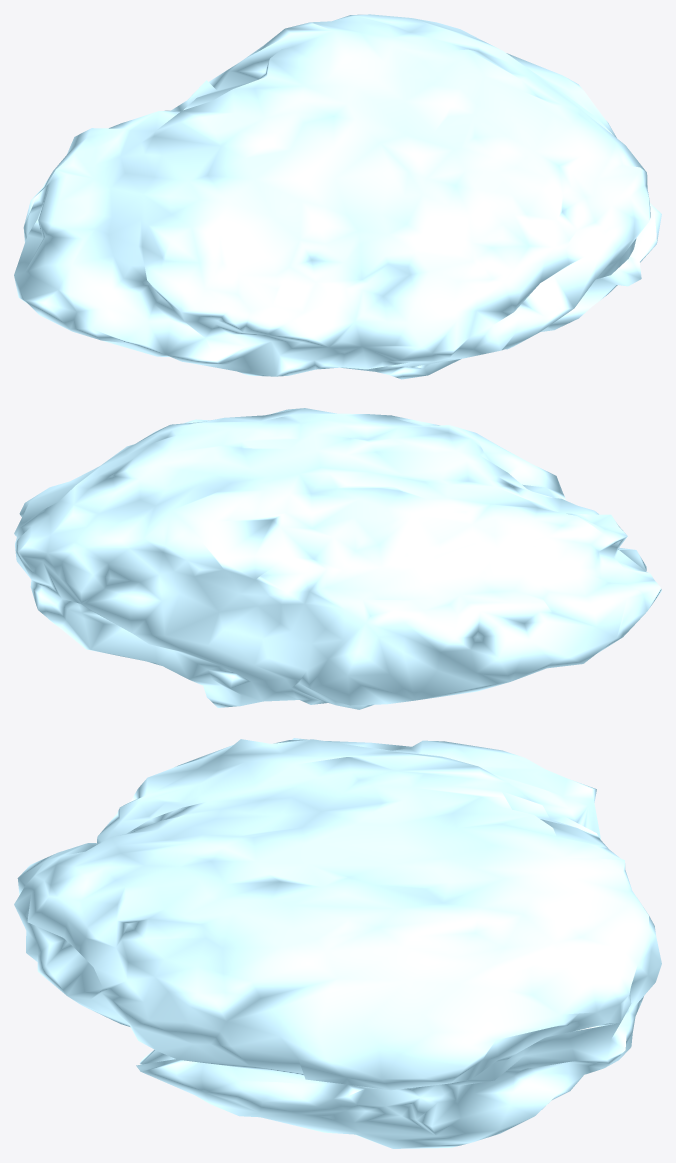
The model's file is ice_shard.glb.
The picture shows the model from 3 angles, top to bottom: view 1: azimuth 30°, elevation 25°; view 2: azimuth 150°, elevation 25°; view 3: azimuth 270°, elevation 25°; orthographic projection. The views are drawn at different scales.
Size of the model in its own units: 1.2 by 0.4 by 1.
